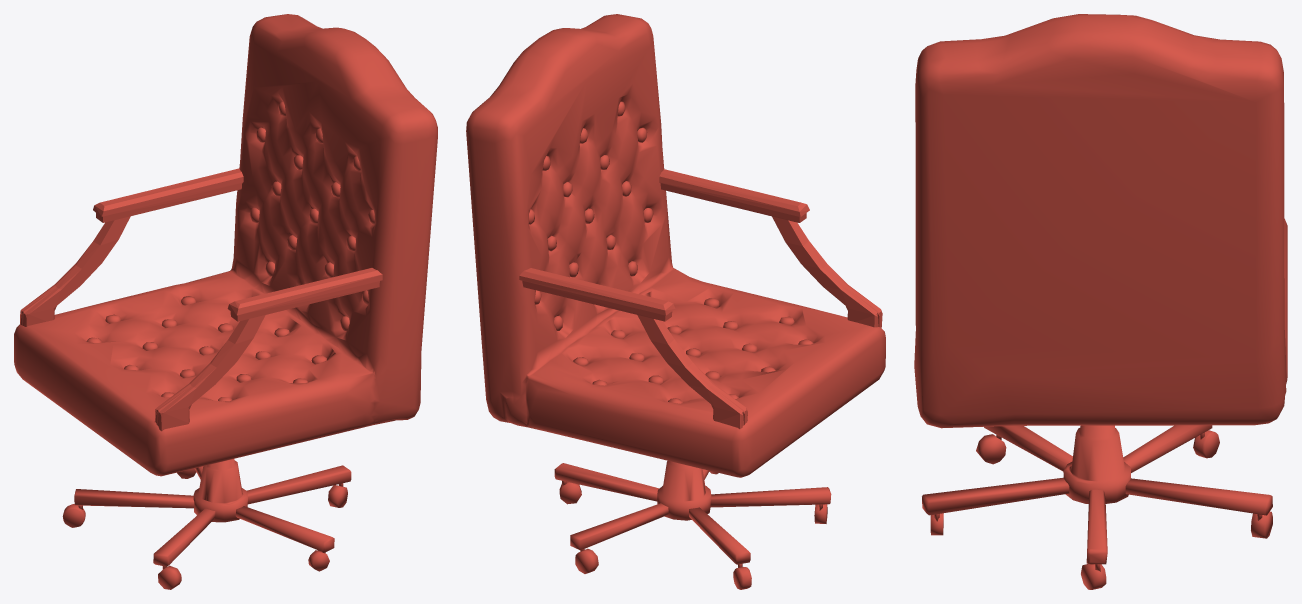
The model's file is Director's chair.fbx.
The picture shows the model from 3 angles, left to right: view 1: azimuth 30°, elevation 25°; view 2: azimuth 150°, elevation 25°; view 3: azimuth 270°, elevation 25°; orthographic projection. The views are drawn at different scales.
Visible parts, largest first — view 1: Director's chair; view 2: Director's chair; view 3: Director's chair.
Part boxes in pixels (x1,y1,x2,y2): Director's chair: [14, 14, 437, 589]; Director's chair: [466, 14, 885, 589]; Director's chair: [914, 14, 1287, 589].
Size of the model in its own units: 2.42 by 3.73 by 2.2.
